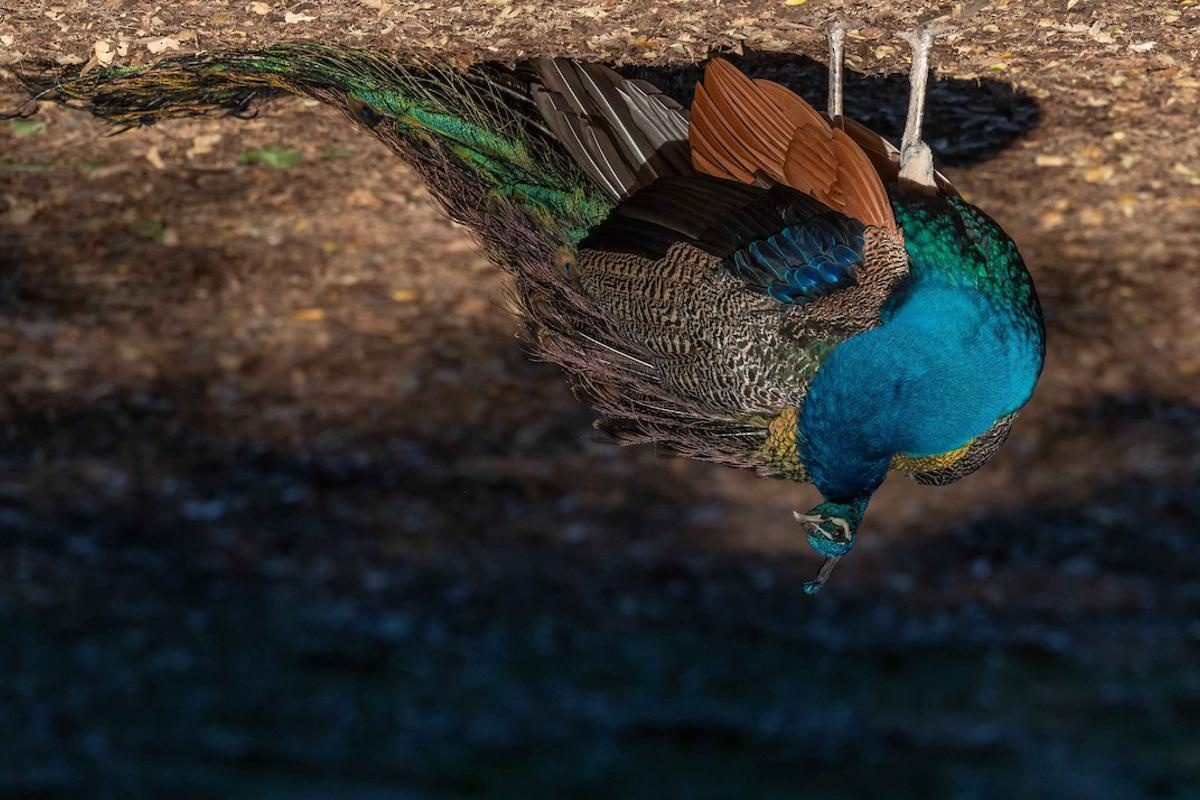peacock: (458, 82, 1049, 571)
